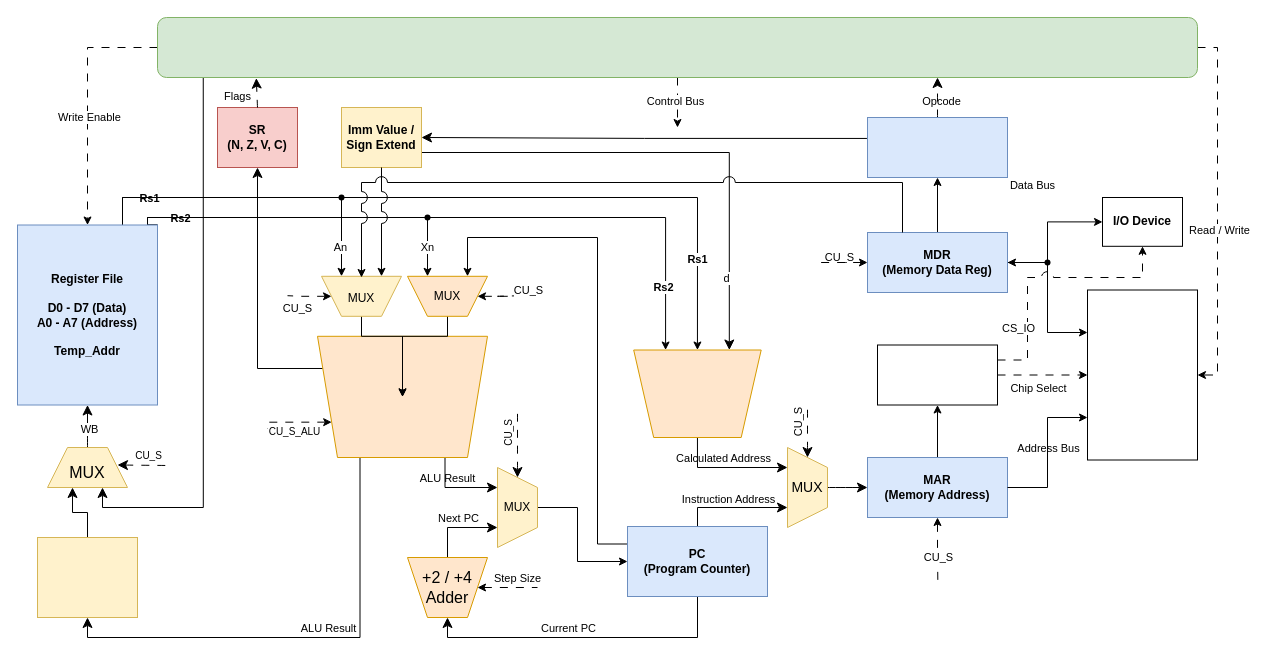
This 1267x665 diagram has some shape labels left out. The shapes that lost their labels are listed below. From the top down, each one's centre as x and y in pixels, then its label:
point 677,47: MICROCODED CONTROL UNIT (Instruction Decode & Multi-cycle Contro)
point 937,147: IR (Instruction Reg)
point 697,393: AGU (Address Adder)
point 937,374: Address Decoder
point 1142,374: Memory (RAM) Instr. & Data
point 402,396: ALU
point 87,577: Size Masking [0..7] ( .b ) [0..31] ( .l )
